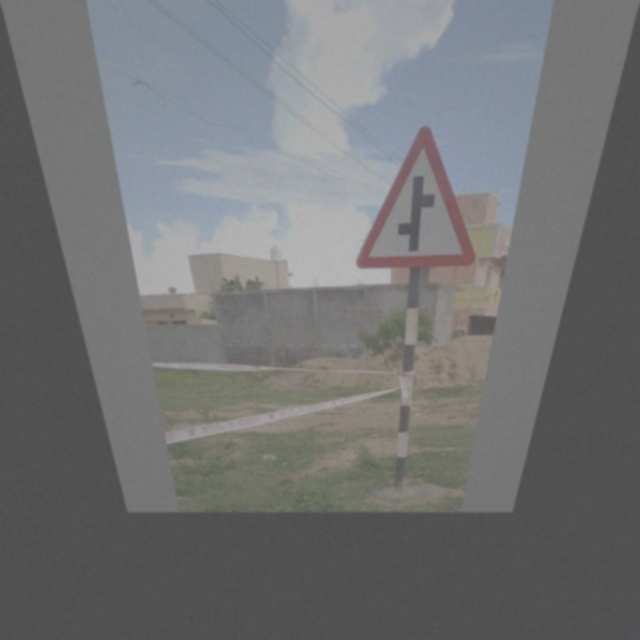Staggered_Intersection: (361, 114, 500, 267)
